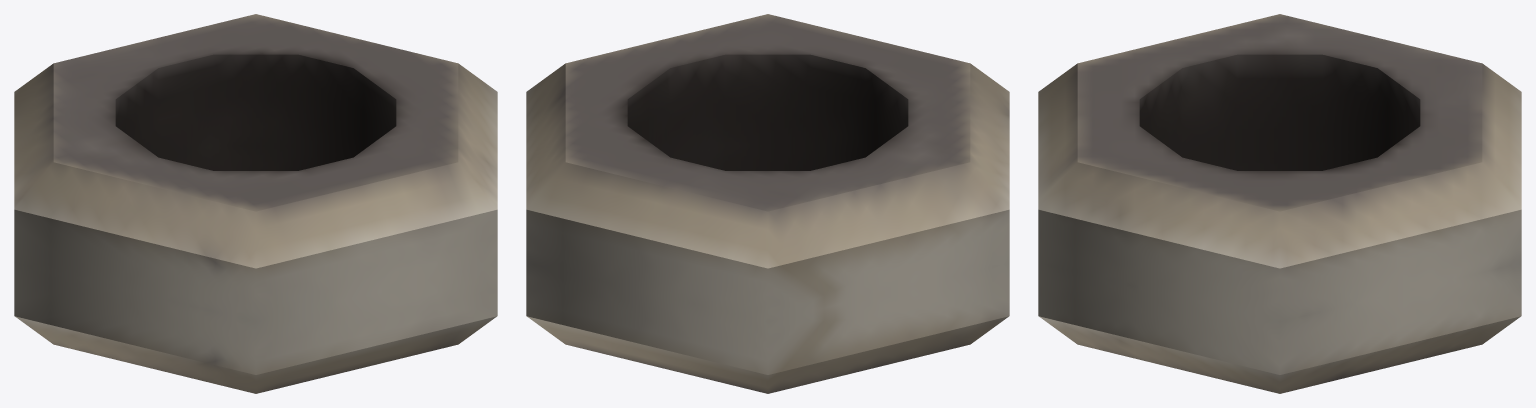
File: Debris_Boulon.FBX
3 views of the same model, side by side, from view 1: azimuth 30°, elevation 25°; view 2: azimuth 150°, elevation 25°; view 3: azimuth 270°, elevation 25° (orthographic).
Visible parts, largest first — view 1: Boulon; view 2: Boulon; view 3: Boulon.
Part boxes in pixels (bbox=[...]): Boulon: bbox=[14, 14, 497, 393]; Boulon: bbox=[526, 14, 1009, 393]; Boulon: bbox=[1038, 14, 1521, 393].
Bounding box in the file's own units: 0.5316 × 0.1918 × 0.4604.
